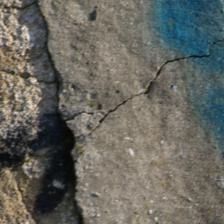Crack: (40, 20, 180, 120)
